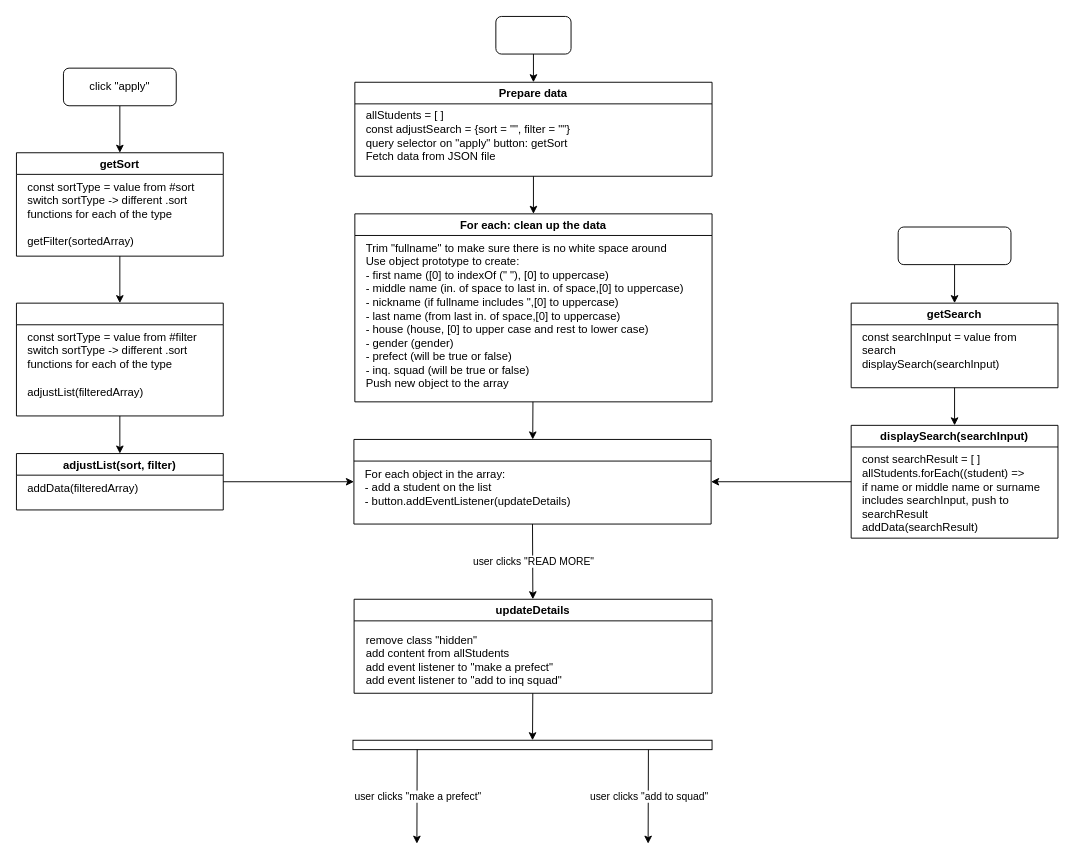
Image size: 1074x868. Some labels were removed from this diagram. The box of each missing label's shape, as (x1, y1, x2, y2) in pixels:
allStudents: add templates in HTML: (353, 439, 711, 524)
getFilter: (16, 302, 223, 416)
START: (495, 16, 571, 54)
user writes sth in search bar: (897, 226, 1011, 265)
